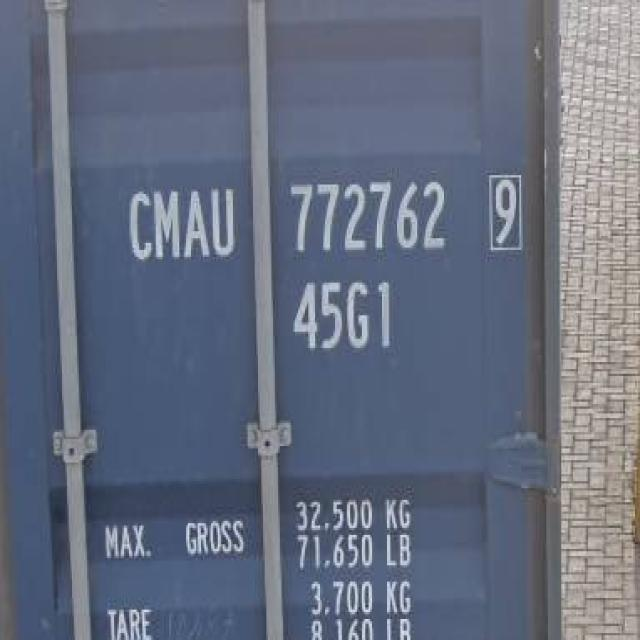dv: (484, 160, 529, 262)
owner: (121, 177, 240, 272)
serial: (286, 162, 452, 262)
size: (281, 268, 397, 356)
